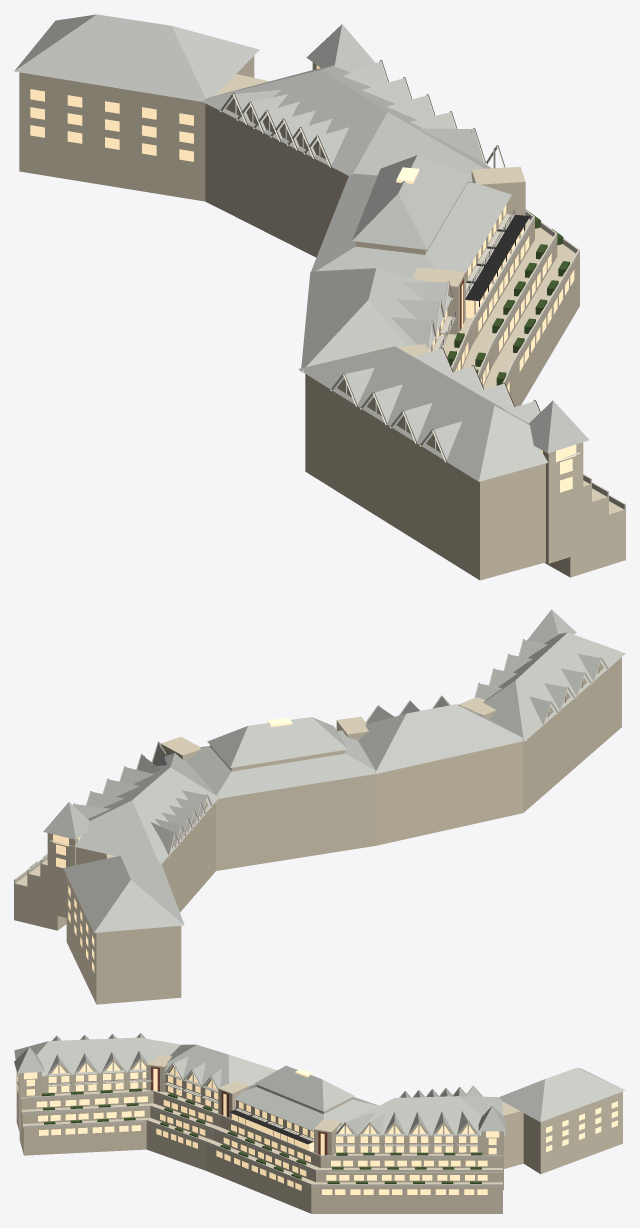
File: pc_bhurban.glb
The picture shows the model from 3 angles, top to bottom: view 1: azimuth 30°, elevation 25°; view 2: azimuth 150°, elevation 25°; view 3: azimuth 270°, elevation 25°; orthographic projection. The views are drawn at different scales.
Visible parts, largest first — view 1: m_roof_metal, m_wall_cream, m_trim_white, m_window_dark, m_hedge, m_pergola_dark; view 2: m_wall_cream, m_roof_metal, m_trim_white, m_window_dark; view 3: m_wall_cream, m_roof_metal, m_window_dark, m_trim_white, m_hedge, m_rail_dark, m_pergola_dark, m_brick_core.
Part boxes in pixels (x1,y1,x2,y2): m_roof_metal: (14,14,589,481); m_wall_cream: (19,56,625,580); m_trim_white: (220,60,625,509); m_window_dark: (30,65,576,492); m_hedge: (447,209,569,385); m_pergola_dark: (465,215,529,314); m_wall_cream: (14,657,621,1004); m_roof_metal: (43,609,625,932); m_trim_white: (14,639,608,883); m_window_dark: (53,717,292,972); m_wall_cream: (16,1054,622,1213); m_roof_metal: (14,1034,625,1135); m_window_dark: (17,1061,617,1194); m_trim_white: (21,1033,502,1186); m_hedge: (42,1088,482,1183); m_rail_dark: (47,1078,478,1145); m_pergola_dark: (229,1109,313,1144); m_brick_core: (151,1066,327,1155).
Bounding box in the file's own units: 77.36 × 33 × 192.
